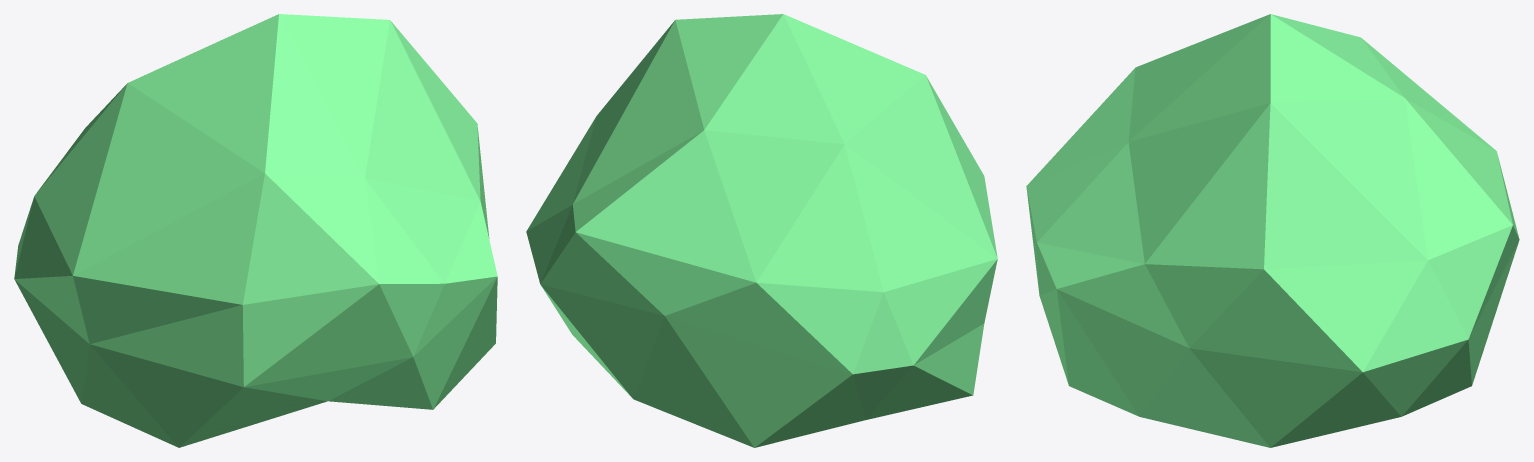
Rendered from Grass Pile 3.fbx.
3 renders of one model, left to right at view 1: azimuth 30°, elevation 25°; view 2: azimuth 150°, elevation 25°; view 3: azimuth 270°, elevation 25°, orthographic. The views are drawn at different scales.
Visible parts, largest first — view 1: Icosphere.003; view 2: Icosphere.003; view 3: Icosphere.003.
Boxes of the visible parts, left/top/right/bottom form: Icosphere.003: left=14, top=14, right=497, bottom=447; Icosphere.003: left=526, top=14, right=997, bottom=447; Icosphere.003: left=1026, top=14, right=1519, bottom=447.
Size of the model in its own units: 13.93 by 11.19 by 13.48.
